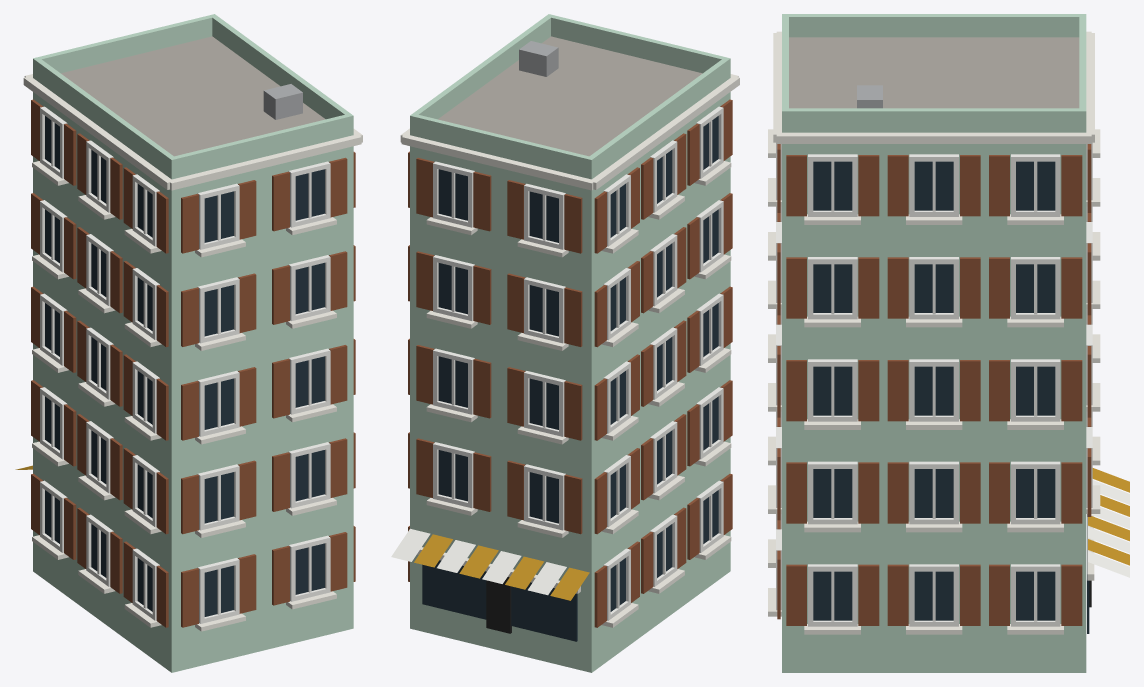
3 renders of one model, left to right at view 1: azimuth 30°, elevation 25°; view 2: azimuth 150°, elevation 25°; view 3: azimuth 270°, elevation 25°, orthographic. The views are drawn at different scales.
Parts seen in each view (by area): view 1: b9538; view 2: b9538; view 3: b9538.
Part boxes in pixels (x1,y1,x2,y2): b9538: [15, 14, 362, 672]; b9538: [391, 14, 739, 672]; b9538: [768, 14, 1129, 672].
Size of the model in its own units: 2966 by 7158 by 4160.
